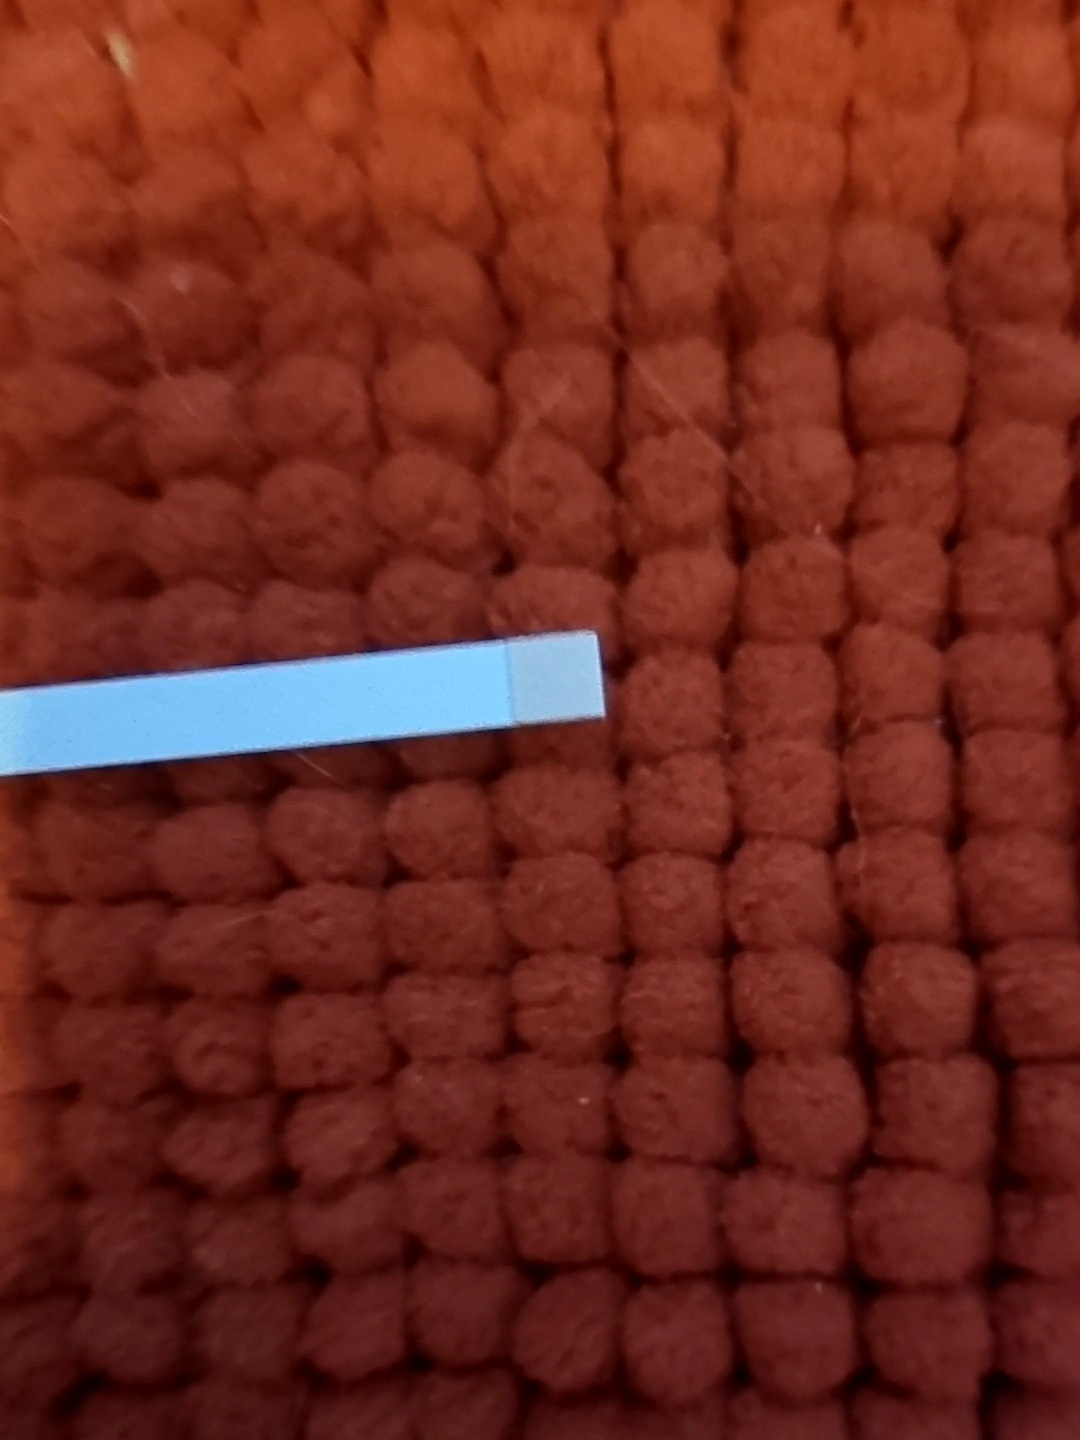keto-tip: (497, 627, 611, 727)
